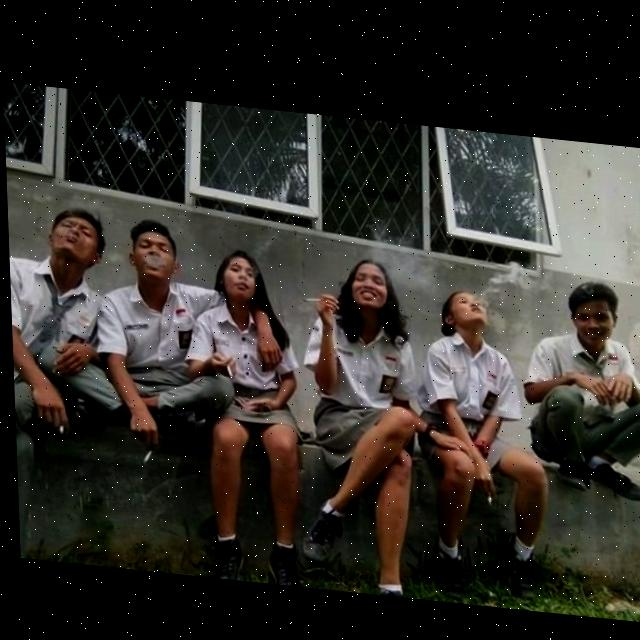cigarette: (139, 447, 149, 462), (301, 290, 319, 297), (224, 360, 230, 371), (484, 481, 488, 496), (57, 425, 60, 433)
